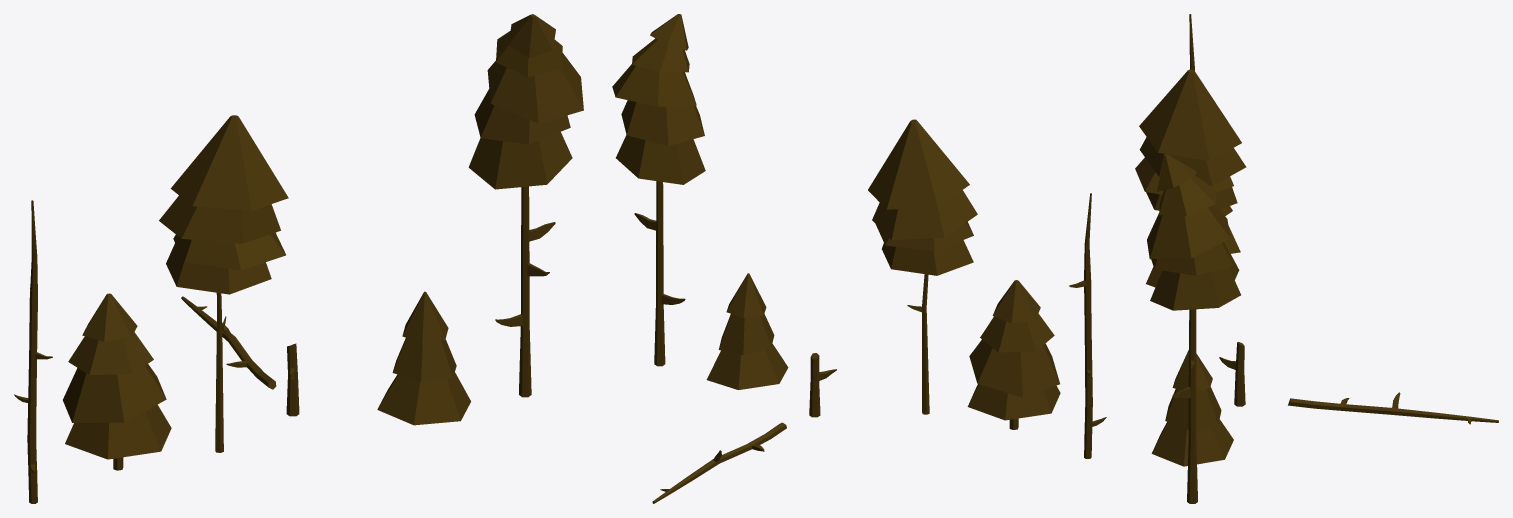
File: pine-tree.glb
The picture shows the model from 3 angles, left to right: view 1: azimuth 30°, elevation 25°; view 2: azimuth 150°, elevation 25°; view 3: azimuth 270°, elevation 25°; orthographic projection. The views are drawn at different scales.
Parts seen in each view (by area): view 1: Pine4_Pine4_0, Pine1_Pine4_0, Pine5_Pine4_0, Pine2_Pine2_0, Pine1_Trunk2_0, Pine6_Trunk2_0, Pine3_Trunk2_0, Pine4_Trunk2_0; view 2: Pine4_Pine4_0, Pine1_Pine4_0, Pine5_Pine4_0, Pine2_Pine2_0, Pine6_Trunk2_0, Pine1_Trunk2_0, Pine3_Trunk2_0, Pine4_Trunk2_0; view 3: Pine1_Pine4_0, Pine4_Pine4_0, Pine2_Pine2_0, Pine3_Trunk2_0, Pine1_Trunk2_0, Pine5_Pine4_0.
Boxes of the visible parts, bbox=[...] form: Pine4_Pine4_0: bbox=[159, 115, 288, 294]; Pine1_Pine4_0: bbox=[468, 14, 583, 189]; Pine5_Pine4_0: bbox=[63, 293, 171, 459]; Pine2_Pine2_0: bbox=[377, 292, 470, 425]; Pine1_Trunk2_0: bbox=[495, 186, 555, 397]; Pine6_Trunk2_0: bbox=[14, 200, 52, 503]; Pine3_Trunk2_0: bbox=[181, 296, 299, 416]; Pine4_Trunk2_0: bbox=[215, 292, 226, 452]; Pine4_Pine4_0: bbox=[868, 119, 977, 275]; Pine1_Pine4_0: bbox=[612, 14, 705, 184]; Pine5_Pine4_0: bbox=[967, 280, 1060, 420]; Pine2_Pine2_0: bbox=[706, 274, 788, 389]; Pine6_Trunk2_0: bbox=[1069, 193, 1106, 458]; Pine1_Trunk2_0: bbox=[634, 181, 685, 366]; Pine3_Trunk2_0: bbox=[652, 353, 836, 503]; Pine4_Trunk2_0: bbox=[907, 274, 929, 414]; Pine1_Pine4_0: bbox=[1147, 154, 1240, 310]; Pine4_Pine4_0: bbox=[1135, 69, 1246, 210]; Pine2_Pine2_0: bbox=[1151, 350, 1233, 466]; Pine3_Trunk2_0: bbox=[1219, 342, 1498, 424]; Pine1_Trunk2_0: bbox=[1172, 309, 1197, 503]; Pine5_Pine4_0: bbox=[1146, 206, 1240, 287].
Size of the model in its own units: 10067 by 6770 by 6490.
